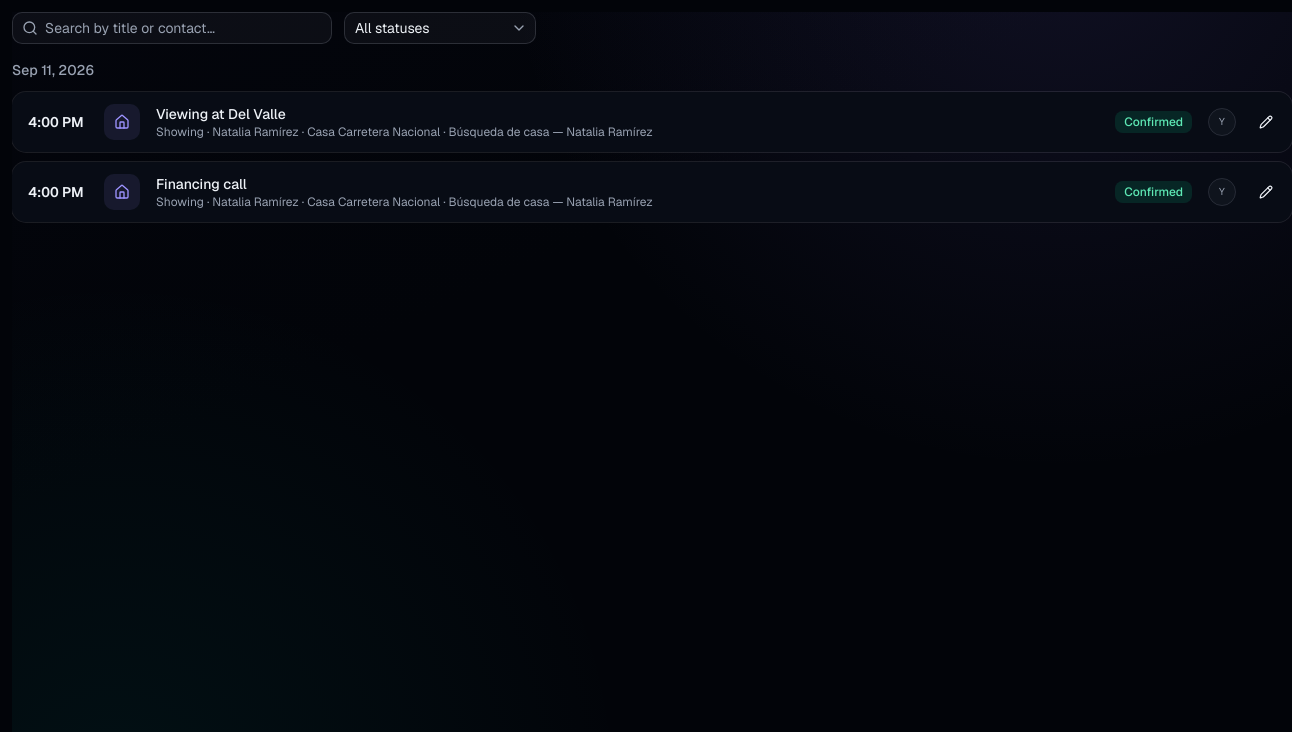
AppointmentsList › filters by search text (title)
Check: the text "Viewing at Del Valle" is shown, box [156, 105, 286, 123]
Type "financing" into the field with placeholder "Search by title or contact…" at (172, 28), box [12, 12, 332, 44]
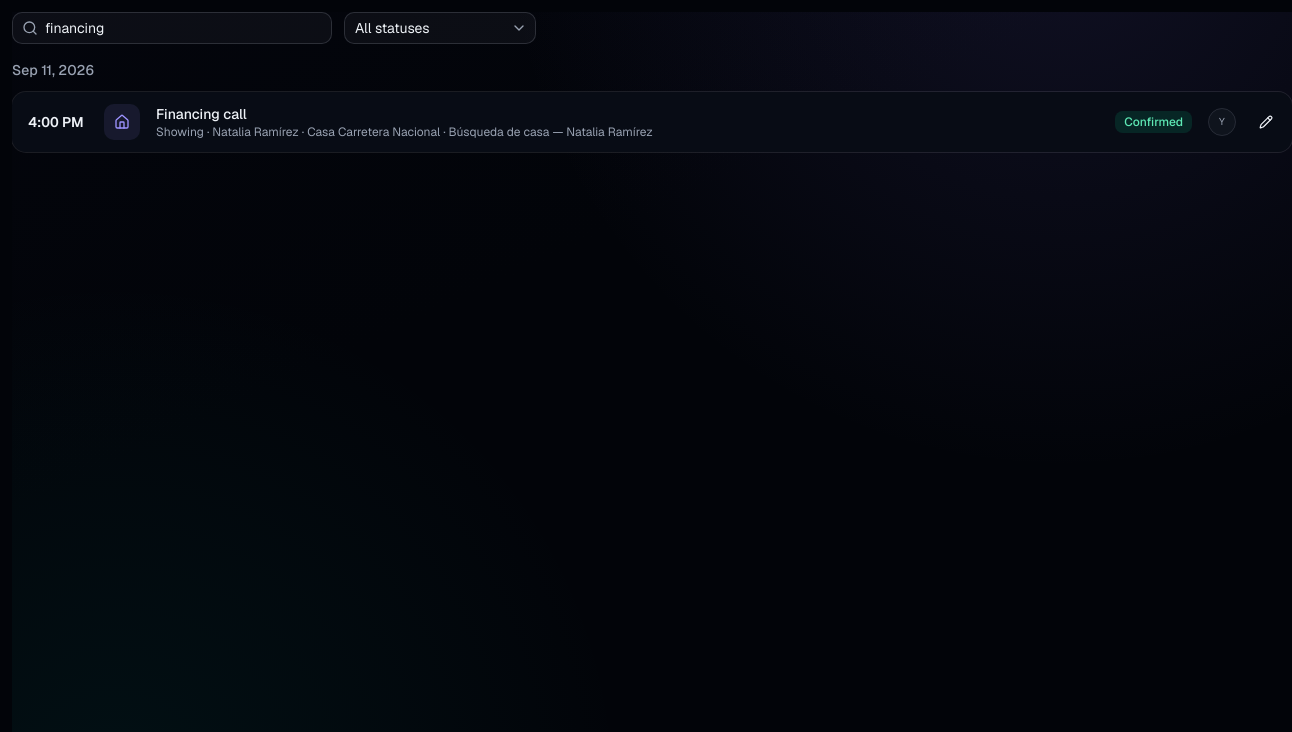
Check: the text "Financing call" is shown, box [156, 105, 247, 123]
Check: the text "Viewing at Del Valle" is gone
